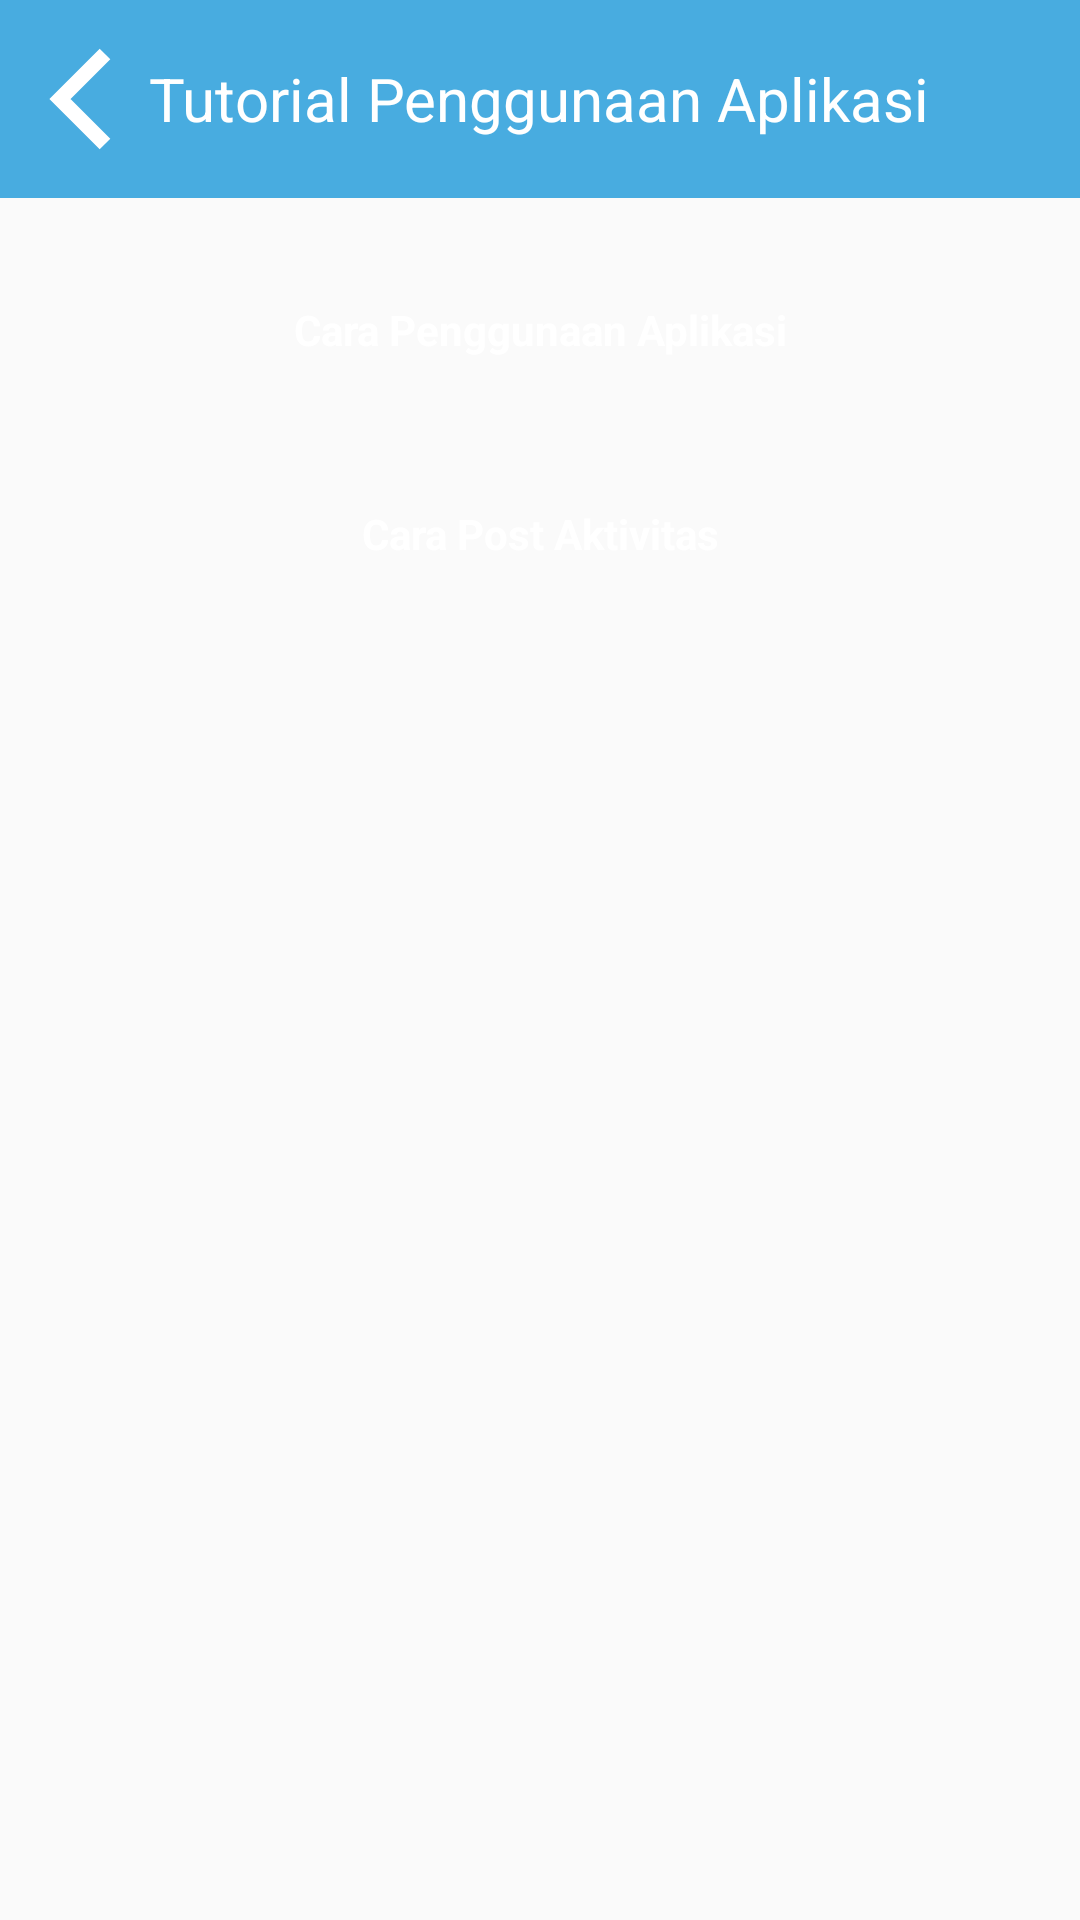

Icons on this 1080x1920 Android screen, each with its box as (x1, y1, x2, y2):
back: (49, 49, 110, 149)
